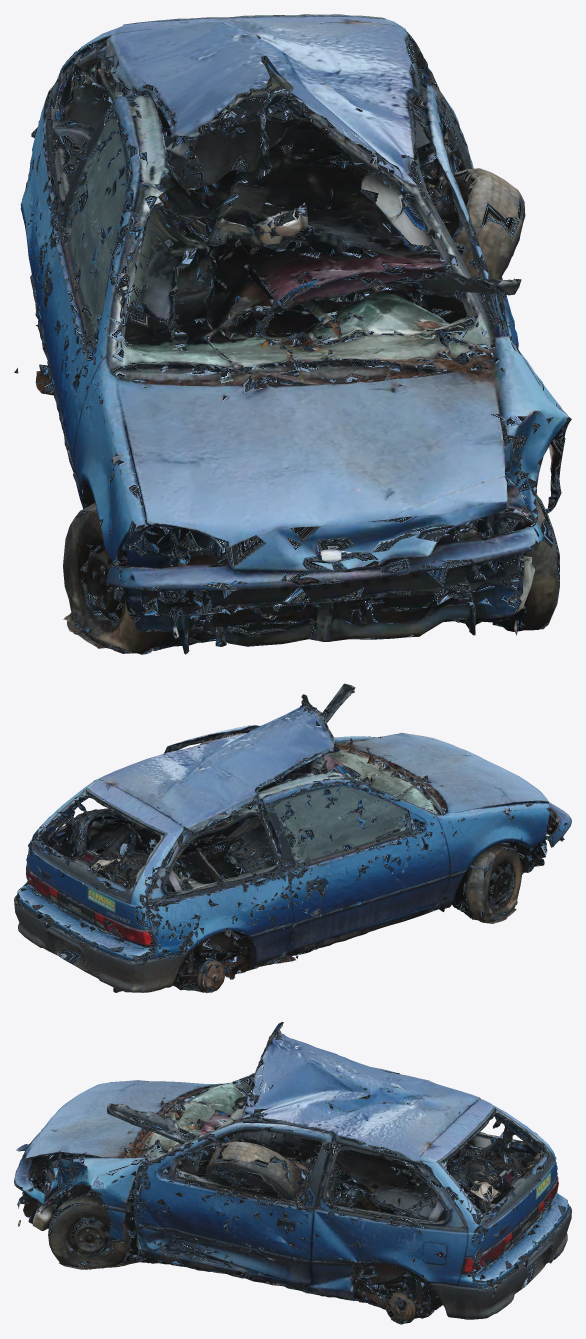
Rendered from carro_batido_scan_07.glb.
The picture shows the model from 3 angles, top to bottom: view 1: azimuth 30°, elevation 25°; view 2: azimuth 150°, elevation 25°; view 3: azimuth 270°, elevation 25°; orthographic projection. The views are drawn at different scales.
Parts seen in each view (by area): view 1: Object_2; view 2: Object_2; view 3: Object_2.
Part boxes in pixels (left/top/right/bottom): Object_2: left=14, top=14, right=571, bottom=654; Object_2: left=14, top=683, right=571, bottom=993; Object_2: left=14, top=1022, right=571, bottom=1324.
Bounding box in the file's own units: 2.97 × 1.8 × 4.
Materials: 1 (1 with a texture image).
